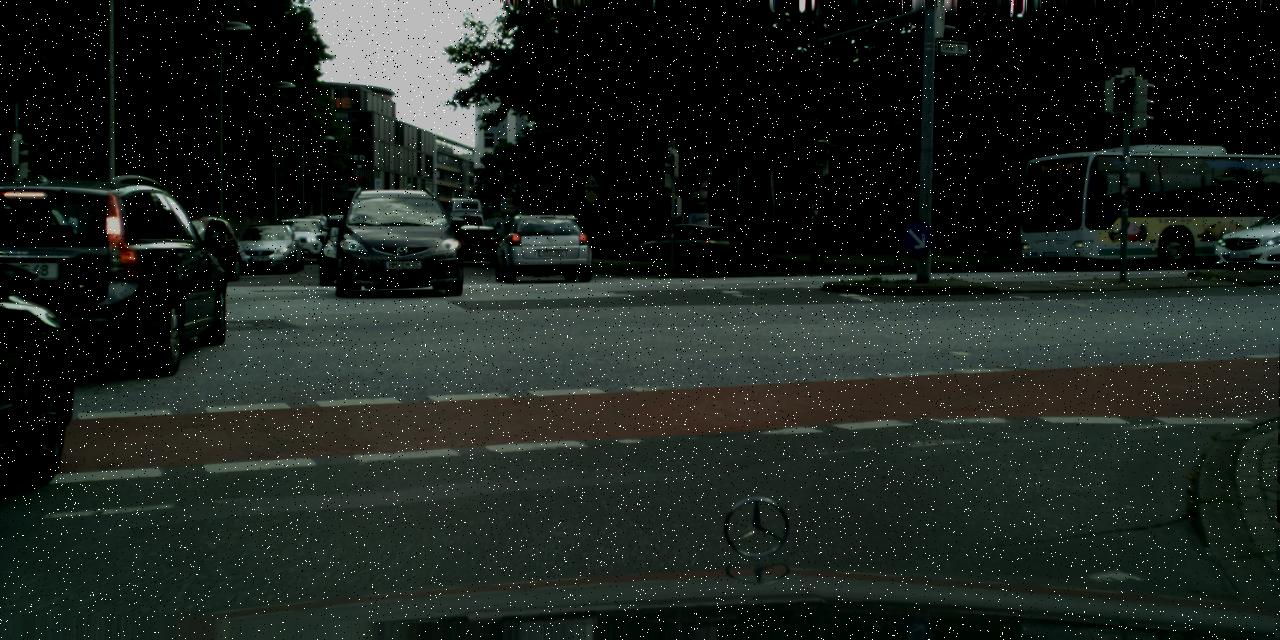ped: (490, 218, 500, 243), (280, 212, 290, 237), (292, 212, 301, 236)
